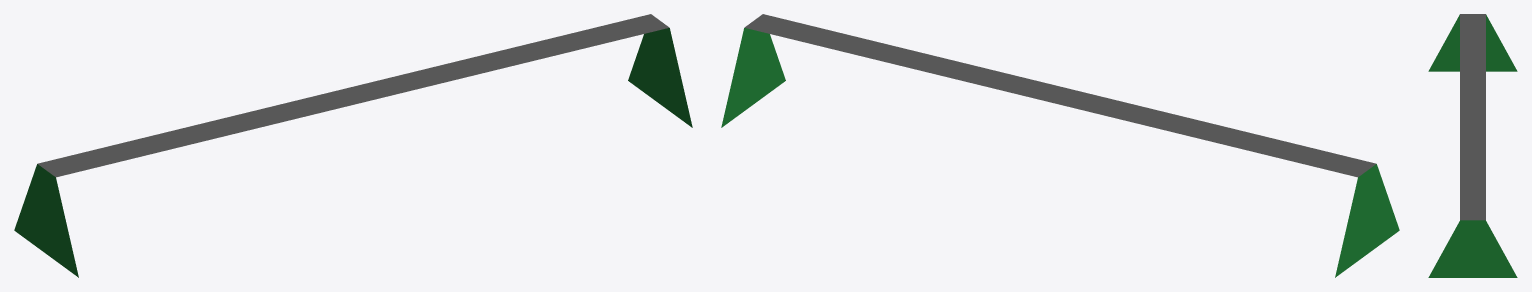
The model's file is goods-cover-end.dae.
3 renders of one model, left to right at view 1: azimuth 30°, elevation 25°; view 2: azimuth 150°, elevation 25°; view 3: azimuth 270°, elevation 25°, orthographic. The views are drawn at different scales.
Parts seen in each view (by area): view 1: _003; view 2: _003; view 3: _003.
Part boxes in pixels (x1,y1,x2,y2): _003: (14, 14, 692, 277); _003: (721, 14, 1399, 277); _003: (1428, 14, 1517, 277).
Bounding box in the file's own units: 345 × 63.19 × 44.95.
